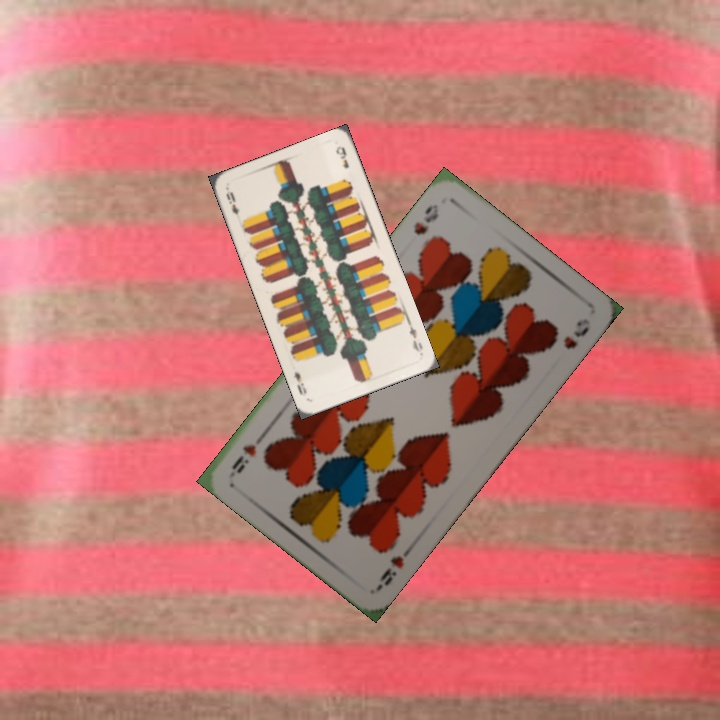E9: (404, 317, 425, 357), (222, 188, 242, 217)
H9: (373, 541, 415, 592), (409, 200, 442, 238)
